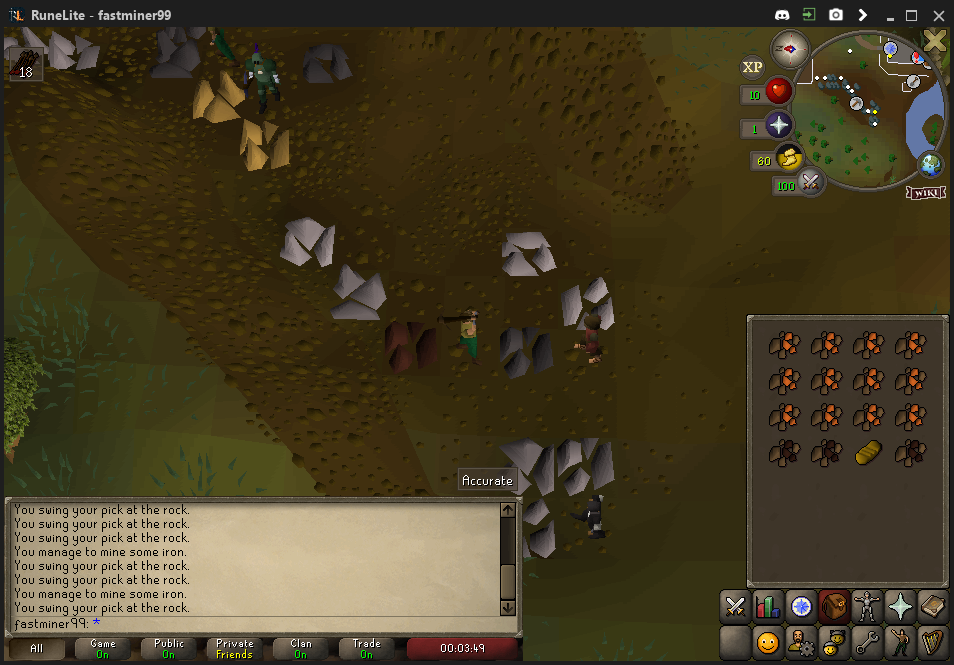depleted: (494, 327, 558, 377)
ore: (380, 317, 442, 373)
